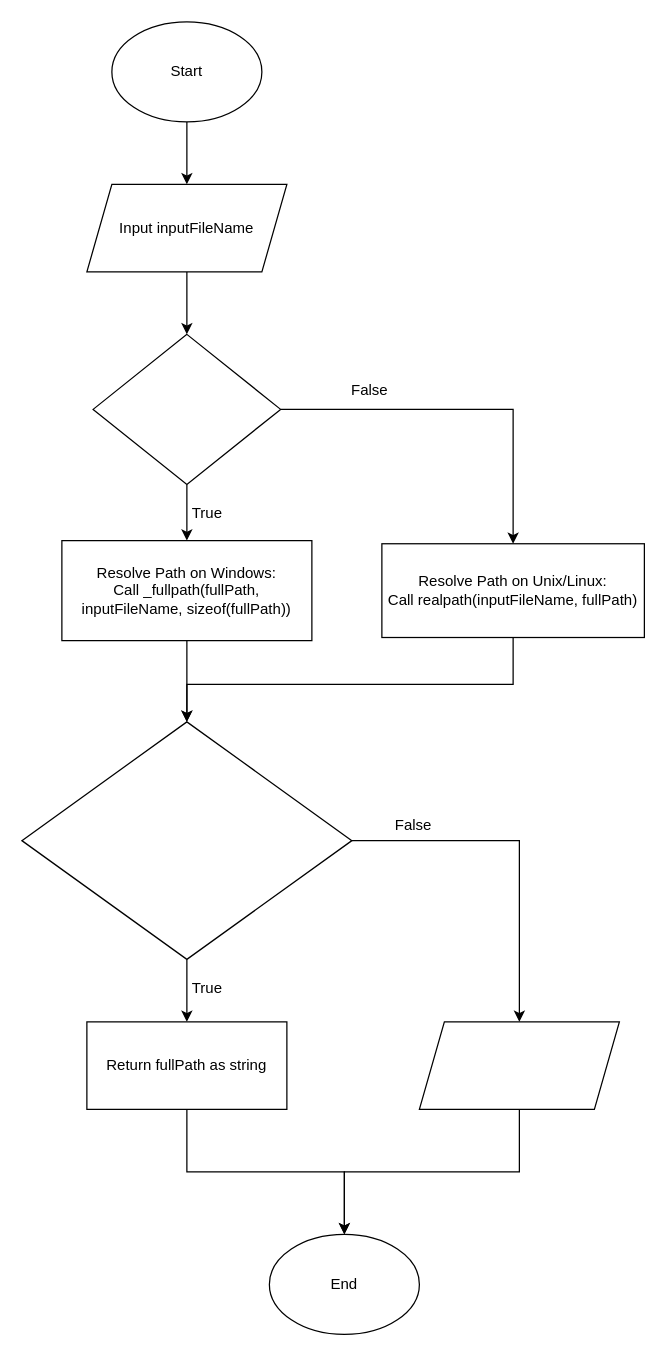
The diagram is 666 pixels wide and 1356 high, and some of its shapes have lost their labels. The centre of each missing label's shape, as x and y in pixels:
Check if Path Resolution Succeeded: Path resolution succeeded?: the point at 186,840
Is platform Windows (_WIN32)?: the point at 186,408
Print "Return empty string": the point at 518,1065
